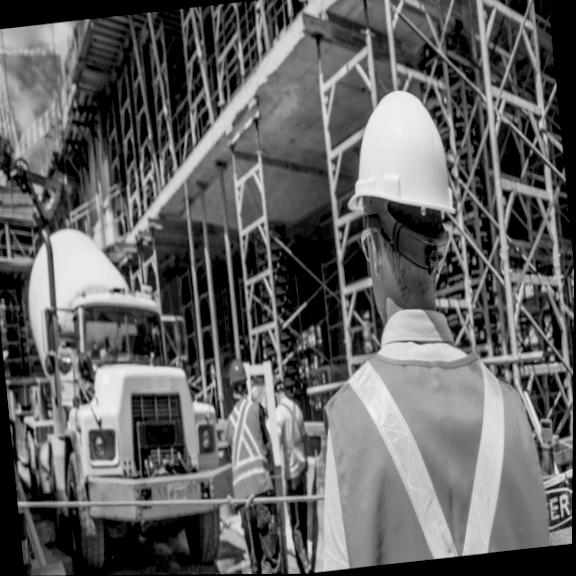safety_vest: (309, 315, 558, 570), (222, 398, 280, 509), (273, 394, 315, 496)
